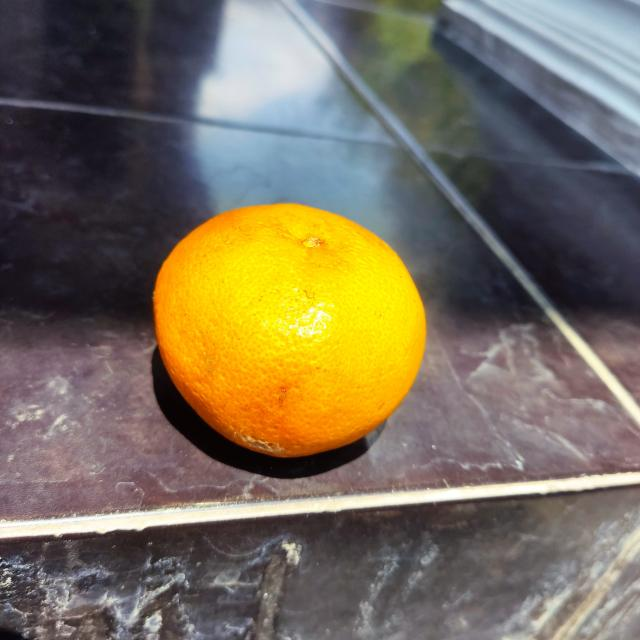orange: (156, 200, 427, 457)
